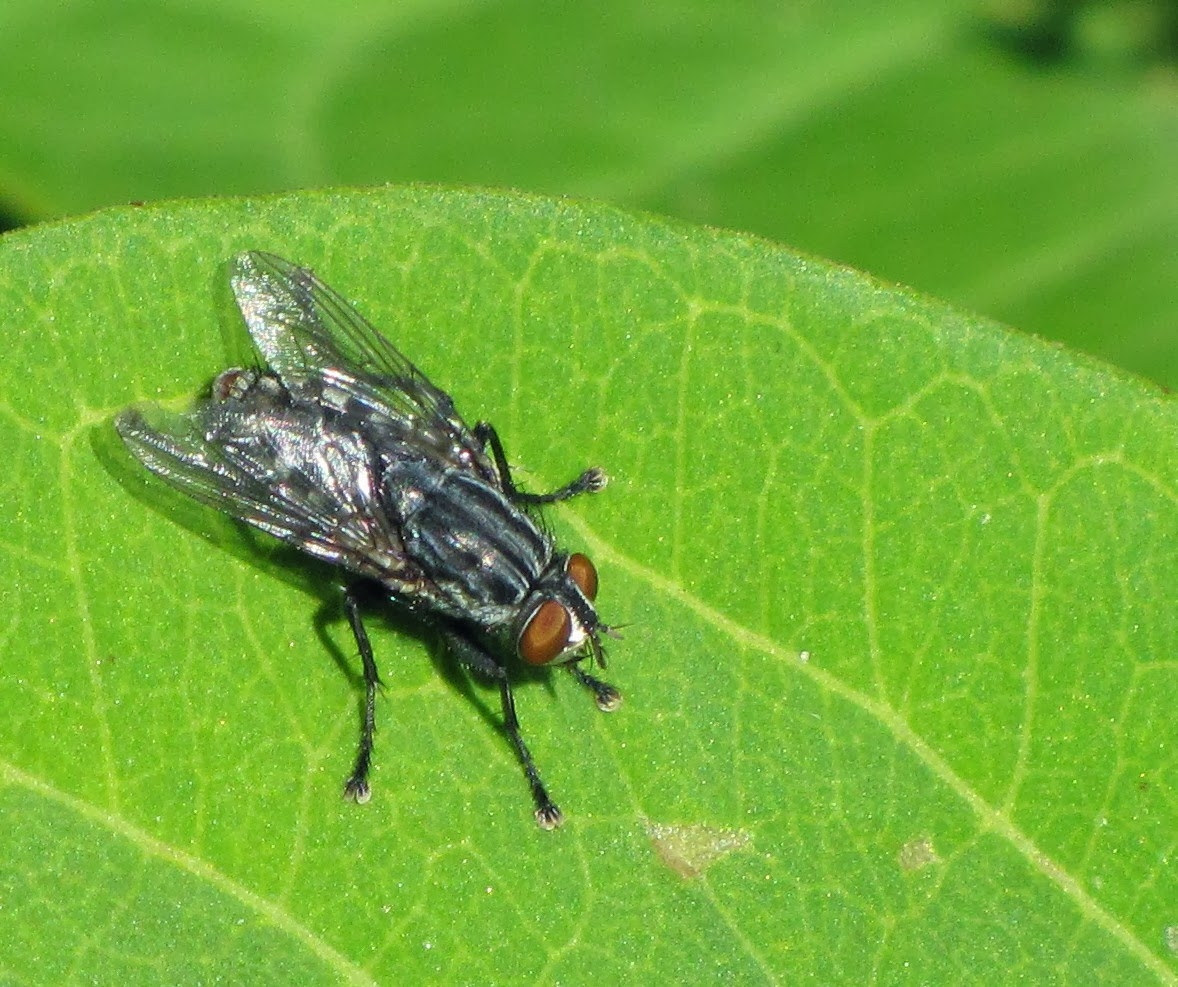house fly: (99, 246, 623, 843)
